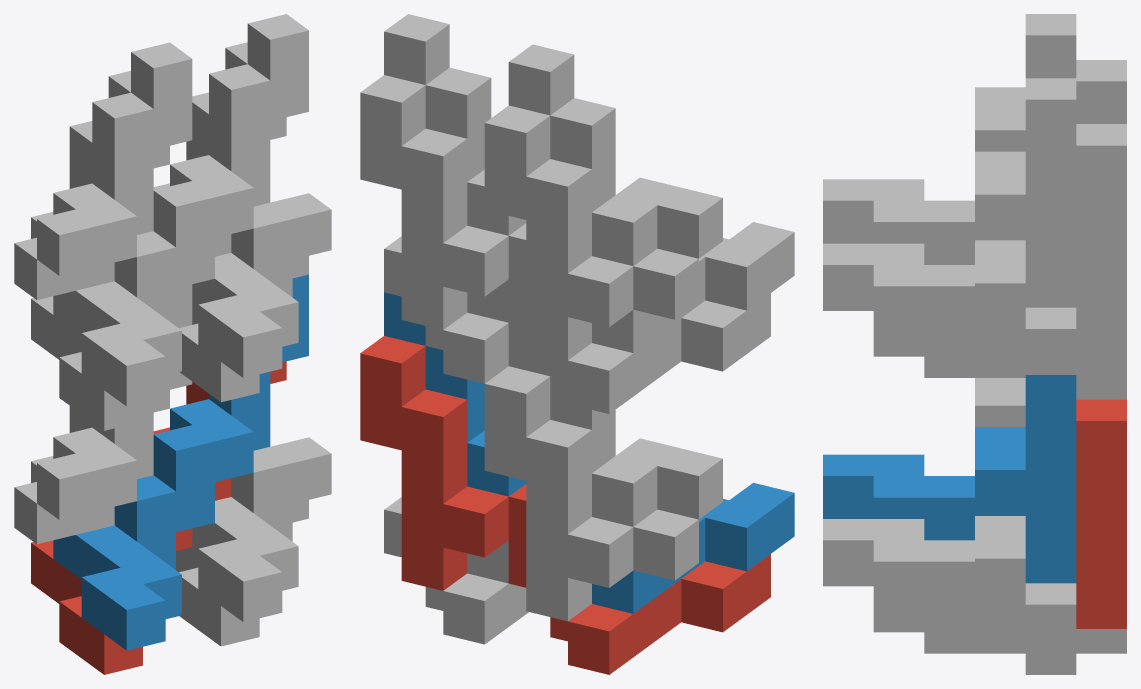
Rendered from tiling.obj.
3 views of the same model, side by side, from view 1: azimuth 30°, elevation 25°; view 2: azimuth 150°, elevation 25°; view 3: azimuth 270°, elevation 25° (orthographic). The views are drawn at different scales.
Parts seen in each view (by area): view 1: copy_2_domain_4, copy_2_domain_8, copy_1_domain_4, copy_1_domain_2, copy_1_domain_8, copy_1_domain_6, copy_2_domain_6, copy_2_domain_2, copy_2_domain_3, copy_1_domain_1, copy_1_domain_3, copy_2_domain_1 (+4 smaller); view 2: copy_2_domain_3, copy_2_domain_1, copy_2_domain_7, copy_2_domain_5, copy_2_domain_4, copy_2_domain_2, copy_1_domain_1, copy_1_domain_3, copy_2_domain_8, copy_1_domain_4, copy_1_domain_2, copy_1_domain_5 (+4 smaller); view 3: copy_1_domain_8, copy_1_domain_6, copy_2_domain_8, copy_2_domain_6, copy_2_domain_5, copy_2_domain_7, copy_1_domain_5, copy_1_domain_2, copy_1_domain_4, copy_1_domain_7, copy_2_domain_4, copy_2_domain_3 (+2 smaller).
Boxes of the visible parts, box(x1,y1,x2,y2) form: copy_2_domain_4: box(37, 42, 192, 275); copy_2_domain_8: box(153, 14, 308, 247); copy_1_domain_4: box(53, 231, 214, 406); copy_1_domain_2: box(53, 475, 214, 650); copy_1_domain_8: box(192, 193, 331, 377); copy_1_domain_6: box(192, 437, 331, 622); copy_2_domain_6: box(153, 274, 308, 491); copy_2_domain_2: box(37, 303, 192, 519); copy_2_domain_3: box(14, 71, 169, 299); copy_1_domain_1: box(31, 528, 192, 674); copy_1_domain_3: box(31, 284, 192, 430); copy_2_domain_1: box(14, 390, 169, 544); copy_2_domain_3: box(484, 105, 698, 360); copy_2_domain_1: box(484, 366, 698, 621); copy_2_domain_7: box(360, 75, 526, 329); copy_2_domain_5: box(360, 336, 526, 590); copy_2_domain_4: box(508, 44, 722, 265); copy_2_domain_2: box(508, 323, 722, 526); copy_1_domain_1: box(508, 540, 770, 674); copy_1_domain_3: box(508, 279, 770, 413); copy_2_domain_8: box(384, 14, 526, 235); copy_1_domain_4: box(592, 222, 794, 352); copy_1_domain_2: box(592, 482, 794, 613); copy_1_domain_5: box(384, 497, 528, 644); copy_1_domain_8: box(823, 240, 1025, 353); copy_1_domain_6: box(823, 516, 1025, 628); copy_2_domain_8: box(975, 78, 1076, 307); copy_2_domain_6: box(975, 375, 1076, 583); copy_2_domain_5: box(1076, 399, 1126, 628); copy_2_domain_7: box(1076, 124, 1126, 353); copy_1_domain_5: box(873, 583, 1126, 674); copy_1_domain_2: box(823, 454, 974, 540); copy_1_domain_4: box(823, 179, 974, 264); copy_1_domain_7: box(873, 307, 1126, 377); copy_2_domain_4: box(975, 14, 1076, 151); copy_2_domain_3: box(1076, 60, 1126, 123).
Size of the model in its own units: 7 by 13 by 6.
